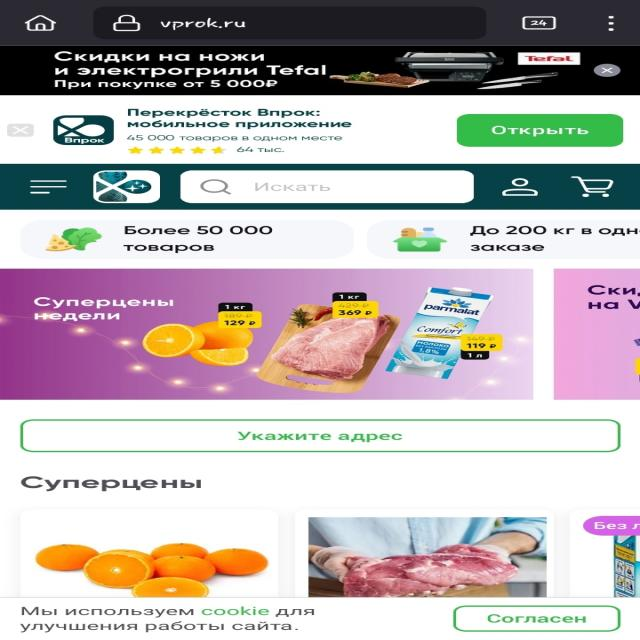button: (459, 114, 624, 146), (451, 606, 617, 630), (5, 120, 32, 139), (594, 62, 618, 77)
site: (0, 94, 640, 162), (0, 48, 640, 94), (0, 597, 640, 640)
